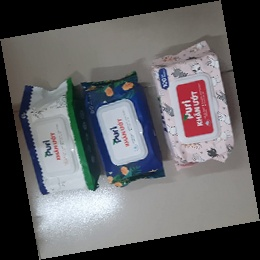Puri Trang: (16, 77, 103, 197)
Puri Xanh: (80, 69, 167, 190)
Puri hong: (151, 40, 236, 172)
